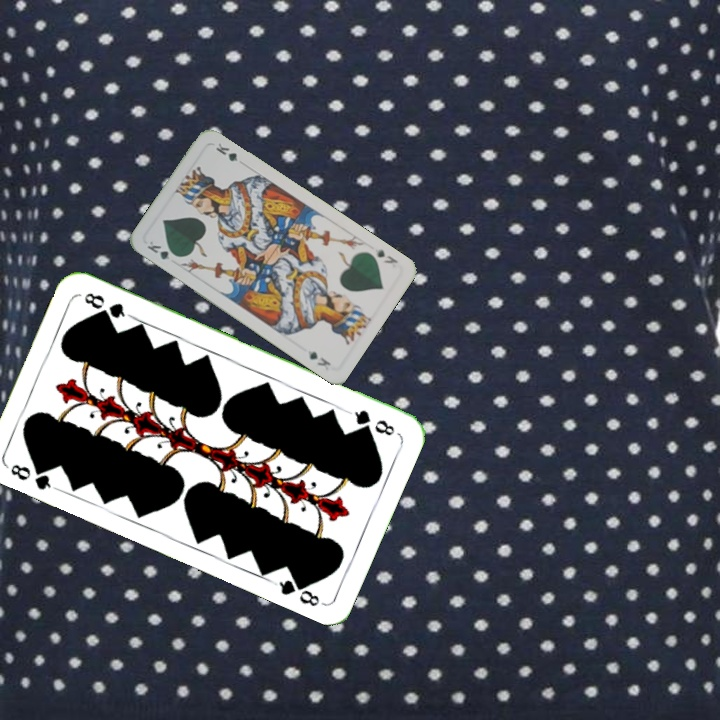G8: (3, 459, 60, 493), (350, 405, 398, 439)
GK: (143, 237, 181, 262), (373, 245, 401, 266)
